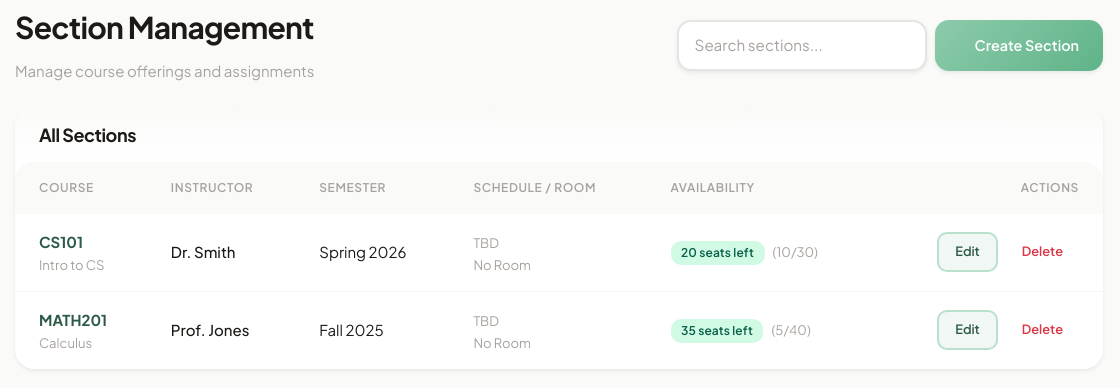
it: SectionsPage › filters sections by search query
The image size is (1120, 388).
Check: the text "CS101" is shown, box [39,232,83,251]
Note: Type 'Smith' into search (Instructor Name)
Type "Smith" into the field with placeholder "Search sections...". click: coordinates (802, 46)
box: [677,20,927,71]
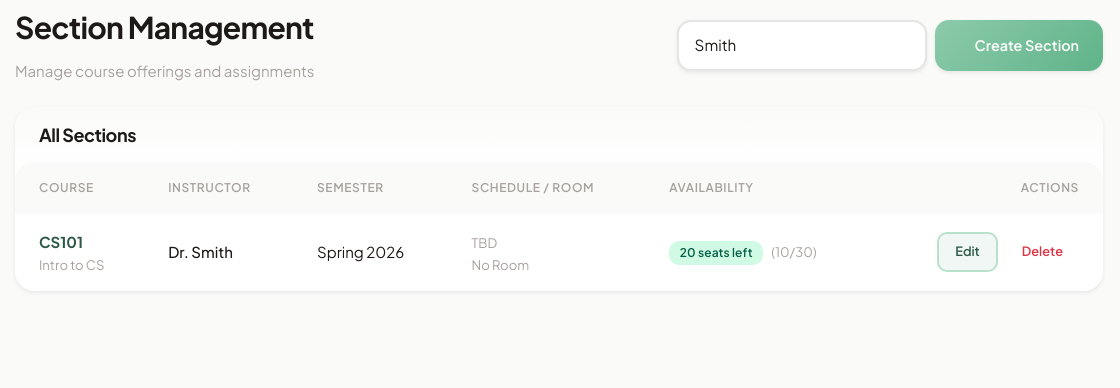
Check: the text "CS101" is shown, box [39,232,83,251]
Check: the text "MATH201" is gone
Note: Type 'Fall' (Semester)
Replace the text in the field with placeholder "Search sections..." with "Fall". click: coordinates (802, 46)
box: [677,20,927,71]
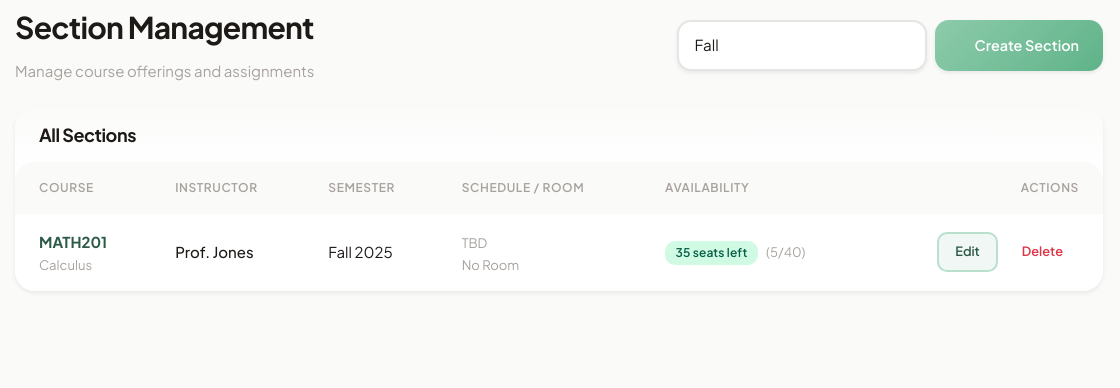
Check: the text "MATH201" is shown, box [39,232,107,251]
Check: the text "CS101" is gone
